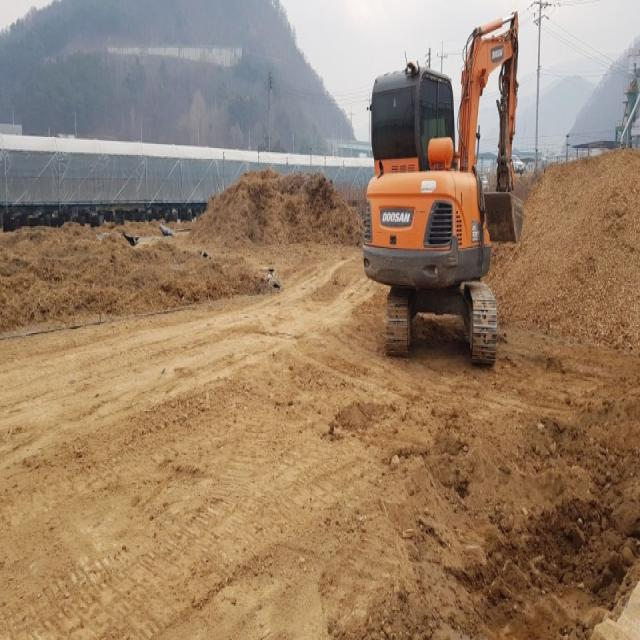excavator: (364, 11, 524, 367)
